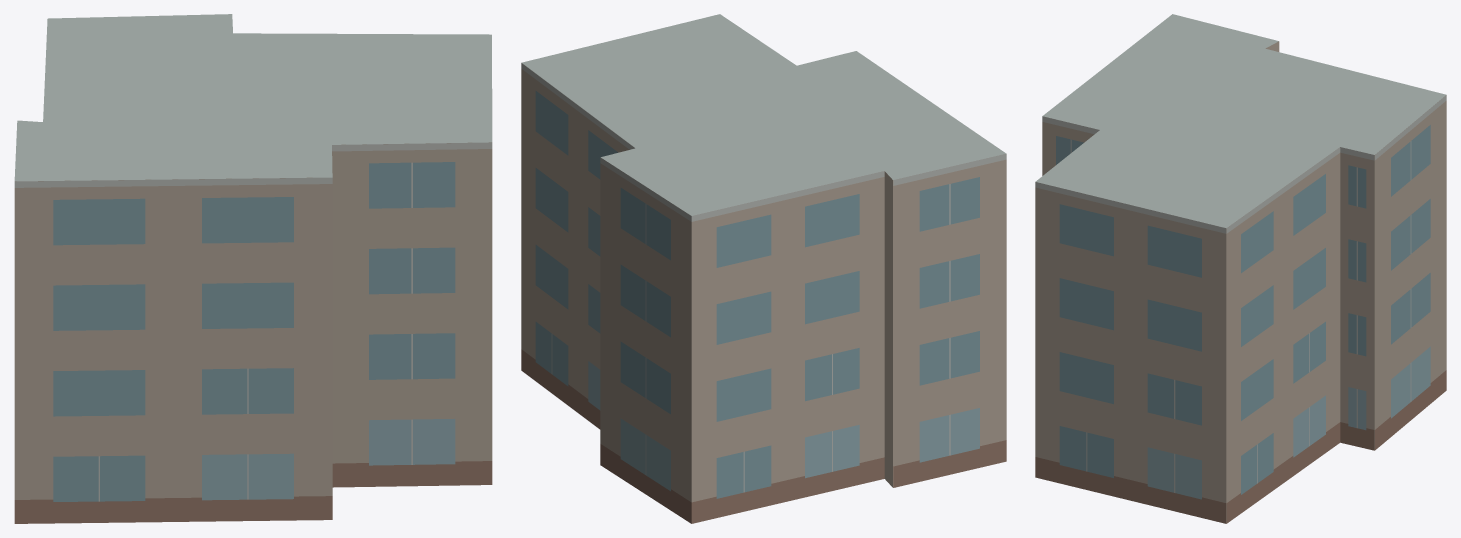
File: survey-upis-32743862.glb
The picture shows the model from 3 angles, left to right: view 1: azimuth 30°, elevation 25°; view 2: azimuth 150°, elevation 25°; view 3: azimuth 270°, elevation 25°; orthographic projection. The views are drawn at different scales.
Parts seen in each view (by area): view 1: survey-upis-32743862.tmp; view 2: survey-upis-32743862.tmp; view 3: survey-upis-32743862.tmp.
Part boxes in pixels (x1,y1,x2,y2): survey-upis-32743862.tmp: (14, 14, 492, 523); survey-upis-32743862.tmp: (521, 14, 1006, 523); survey-upis-32743862.tmp: (1035, 14, 1446, 523).
Size of the model in its own units: 19.9 by 12.8 by 16.15.
